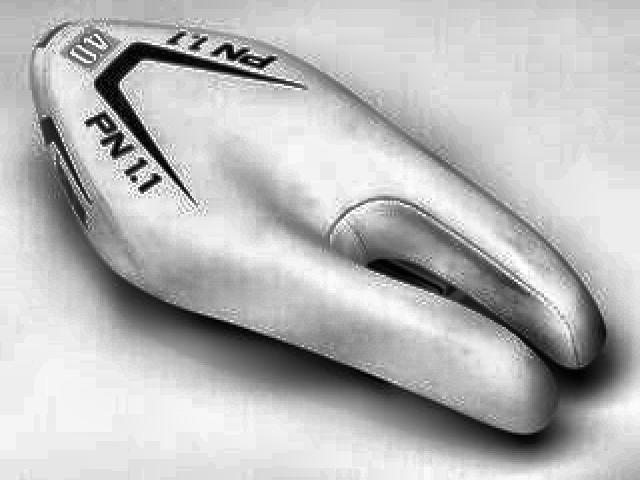saddle: (24, 17, 609, 441)
